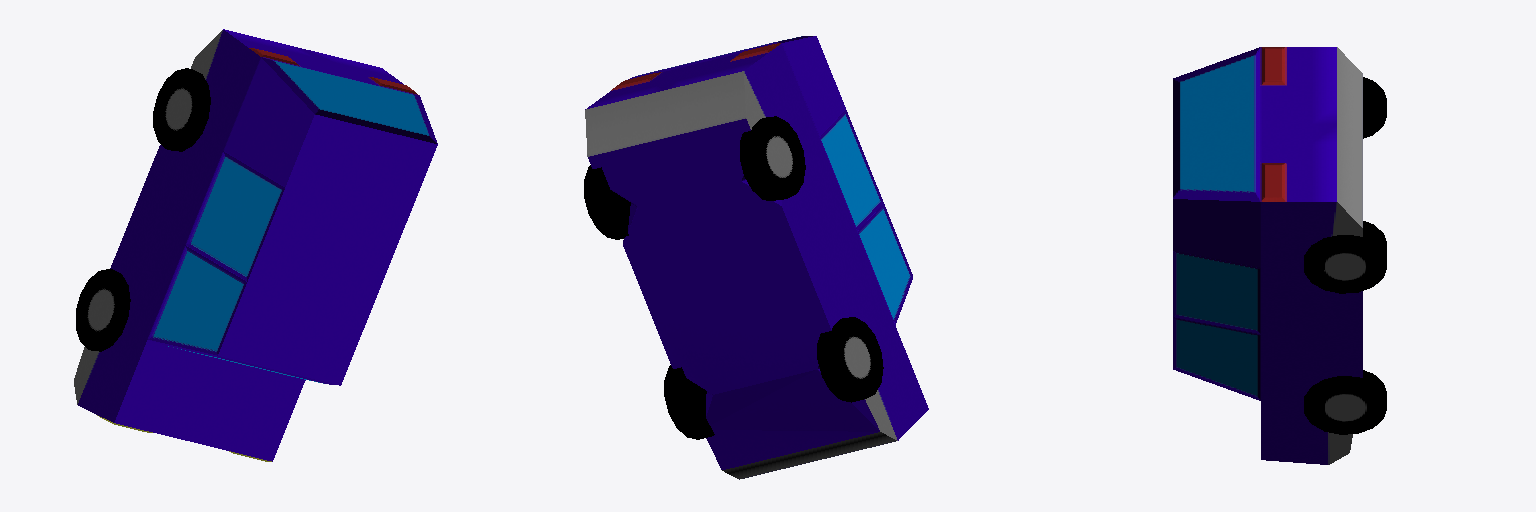
3 views of the same model, side by side, from view 1: azimuth 30°, elevation 25°; view 2: azimuth 150°, elevation 25°; view 3: azimuth 270°, elevation 25° (orthographic).
Visible parts, largest first — view 1: Box001; view 2: Box001; view 3: Box001.
Boxes of the visible parts, box(x1,y1,x2,y2) form: Box001: box(74, 29, 437, 461); Box001: box(584, 36, 928, 479); Box001: box(1173, 47, 1386, 464).
Bounding box in the file's own units: 36.06 × 46.21 × 21.74.
Materials: 1 (1 with a texture image).